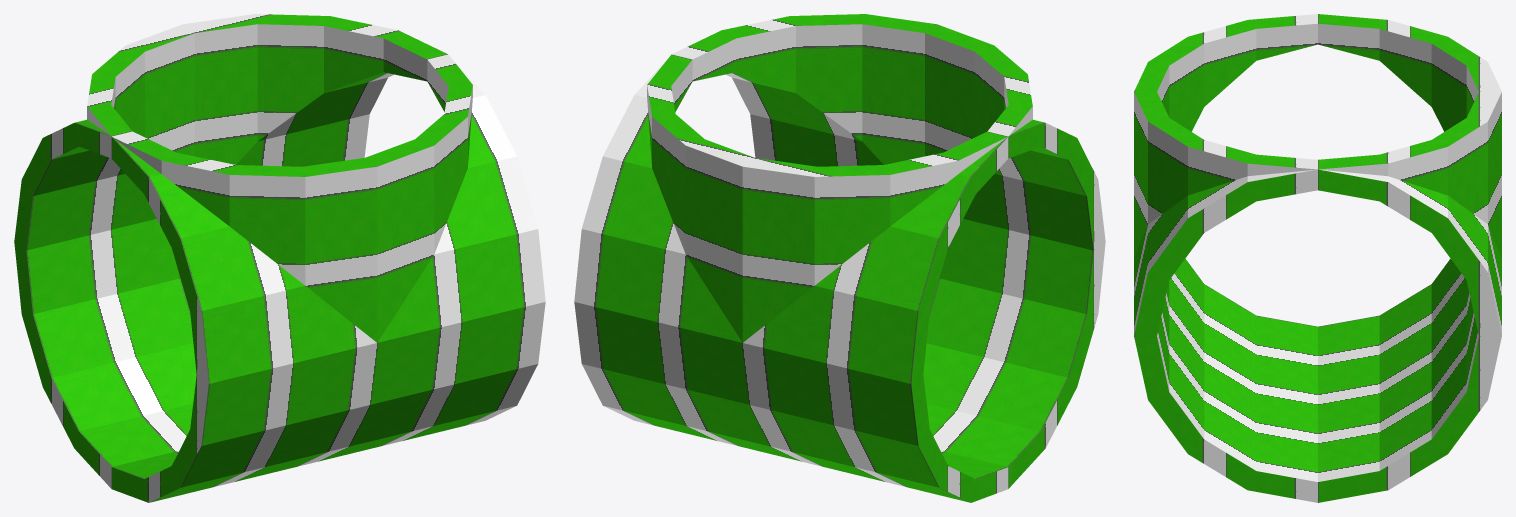
The model's file is pipe3way.dae.
The picture shows the model from 3 angles, left to right: view 1: azimuth 30°, elevation 25°; view 2: azimuth 150°, elevation 25°; view 3: azimuth 270°, elevation 25°; orthographic projection. The views are drawn at different scales.
Parts seen in each view (by area): view 1: pipe3way; view 2: pipe3way; view 3: pipe3way.
Boxes of the visible parts, x1,y1,x2,y2 form: pipe3way: (14,14,545,502); pipe3way: (574,14,1105,502); pipe3way: (1134,14,1501,502).
Bounding box in the file's own units: 4 × 4 × 4.
